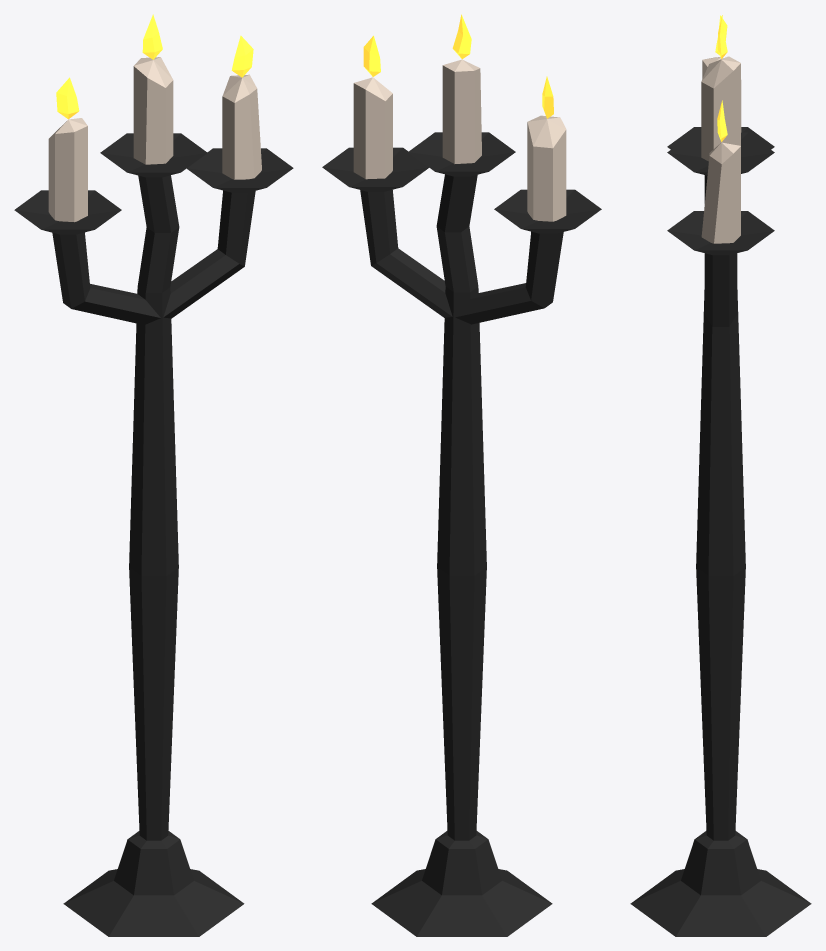
File: fantasy_candlestick.fbx
The picture shows the model from 3 angles, left to right: view 1: azimuth 30°, elevation 25°; view 2: azimuth 150°, elevation 25°; view 3: azimuth 270°, elevation 25°; orthographic projection.
Visible parts, largest first — view 1: fantasy_candlestick; view 2: fantasy_candlestick; view 3: fantasy_candlestick.
Part boxes in pixels (left/top/right/bottom): fantasy_candlestick: left=14, top=14, right=293, bottom=936; fantasy_candlestick: left=322, top=14, right=601, bottom=936; fantasy_candlestick: left=630, top=15, right=811, bottom=936.
Size of the model in its own units: 59.46 by 200 by 36.94.
Materials: 1 (1 with a texture image).
